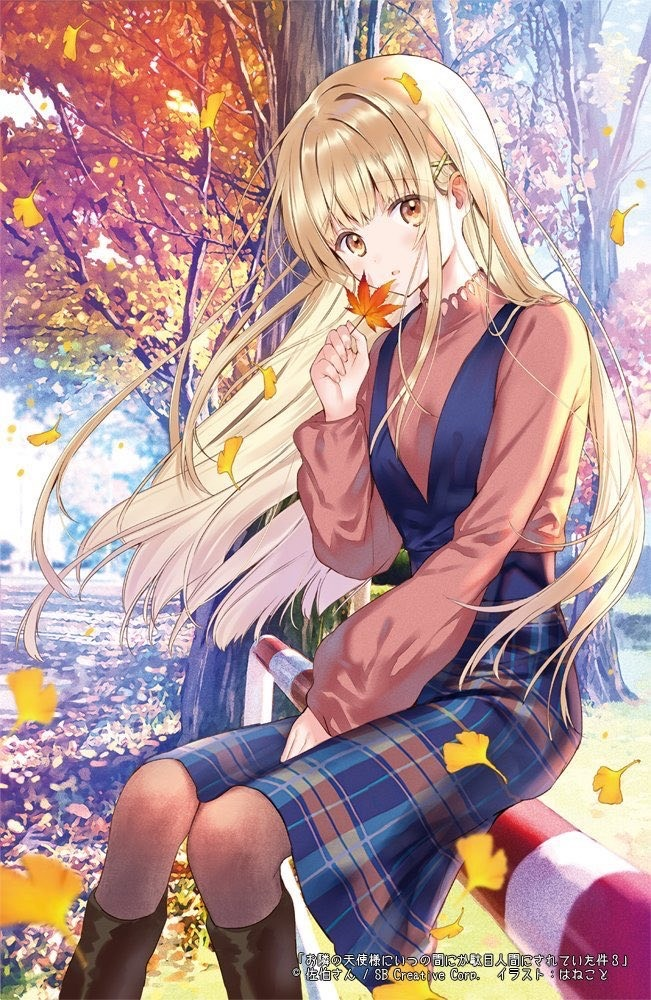纸片人正脸: (259, 51, 527, 309)
